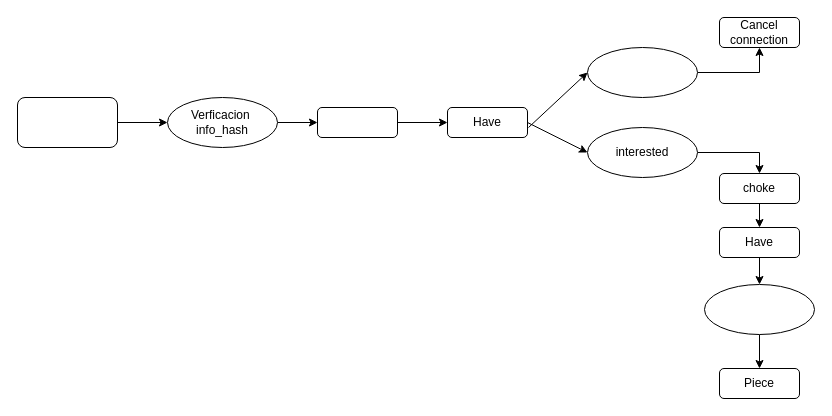
Image size: 832x416. Some labels were removed from this diagram. Here are the shapes that lost their labels. From the top down, the centre of each, then its label:
At (642,72): "not interested".
At (67,122): "HANDSHAKE".
At (357,122): "Bitfield".
At (759,309): "Request".
